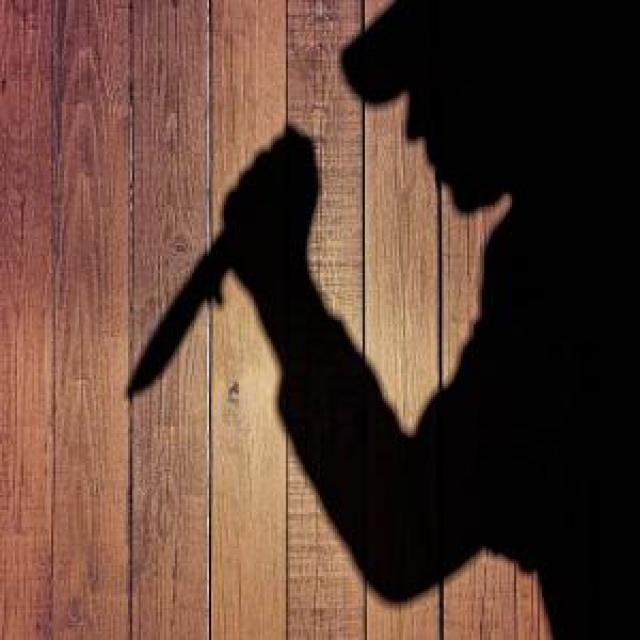knife: (128, 222, 237, 411)
